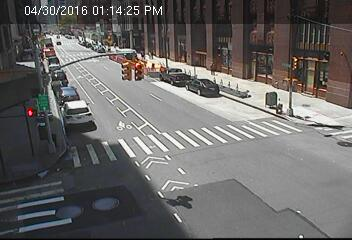neg: (26, 168, 48, 198), (16, 115, 33, 137), (322, 111, 337, 132), (294, 80, 309, 100), (171, 190, 186, 210), (17, 83, 32, 102), (240, 85, 254, 104), (192, 41, 205, 58), (30, 35, 42, 51), (134, 42, 145, 57), (61, 29, 70, 42), (104, 32, 113, 44)
